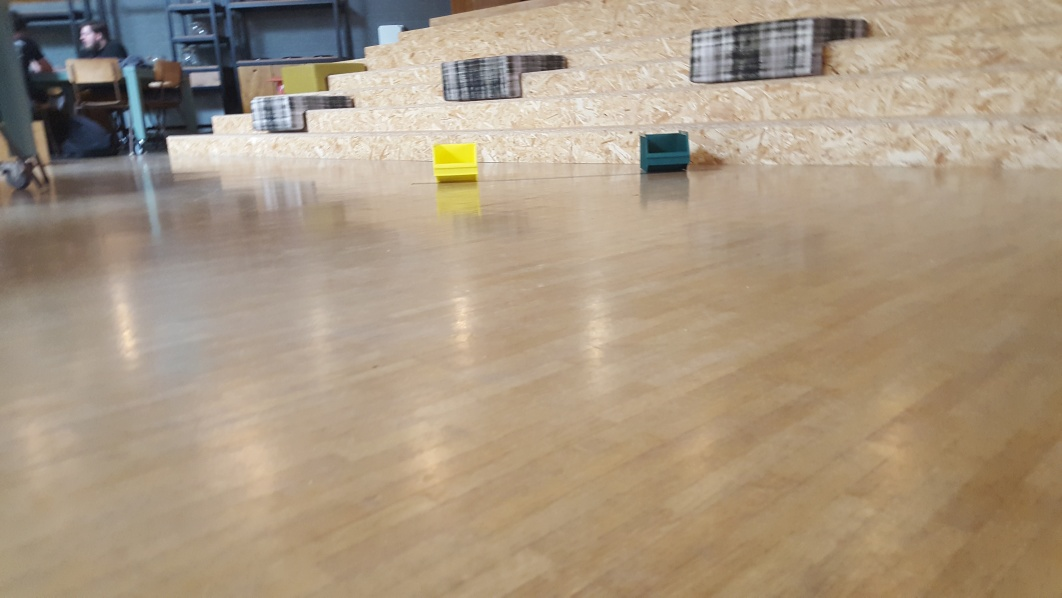tray: (633, 129, 695, 175), (430, 140, 481, 182)
